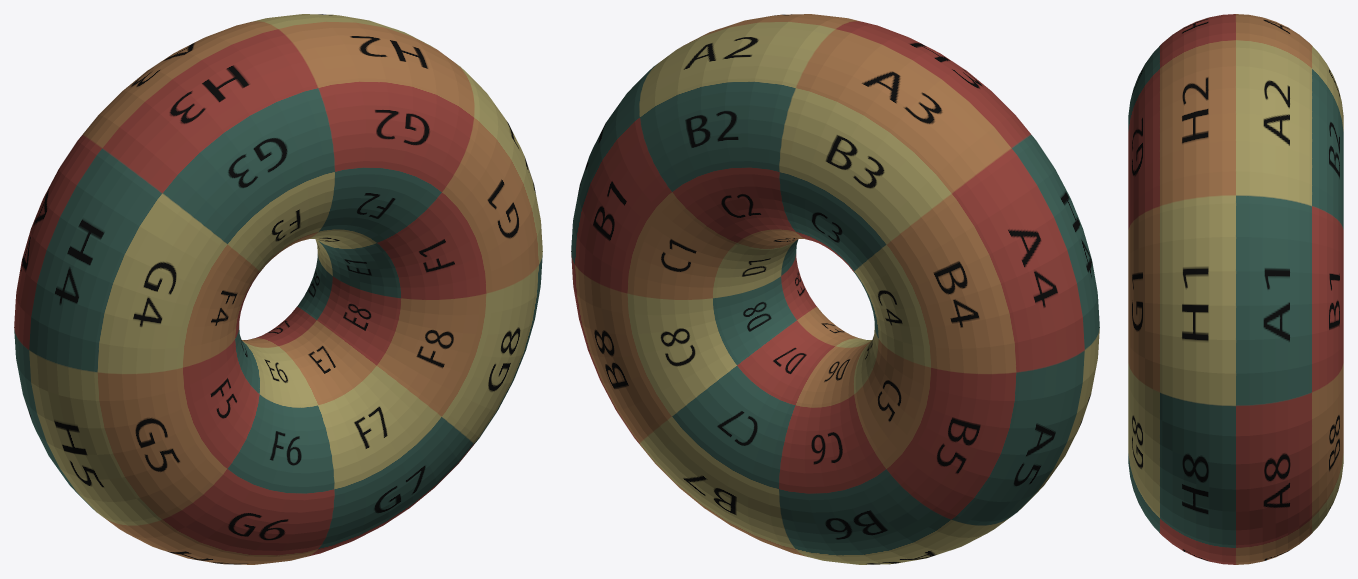
The model's file is texture_torus_R4_r23.glb.
3 renders of one model, left to right at view 1: azimuth 30°, elevation 25°; view 2: azimuth 150°, elevation 25°; view 3: azimuth 270°, elevation 25°, orthographic. The views are drawn at different scales.
Parts seen in each view (by area): view 1: world; view 2: world; view 3: world.
Part boxes in pixels (<box>): world: <box>14,14,542,564</box>; world: <box>571,14,1099,564</box>; world: <box>1128,14,1343,564</box>.
Bounding box in the file's own units: 20.8 × 20.76 × 8.12.
1 material, 1 textured.
